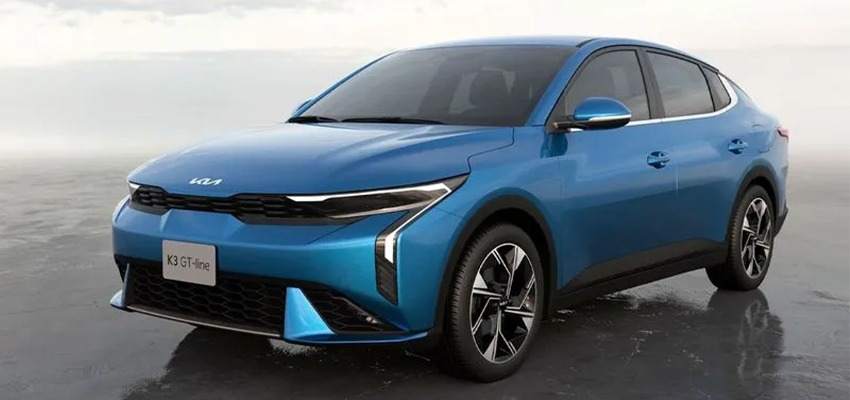car: (98, 23, 805, 390)
